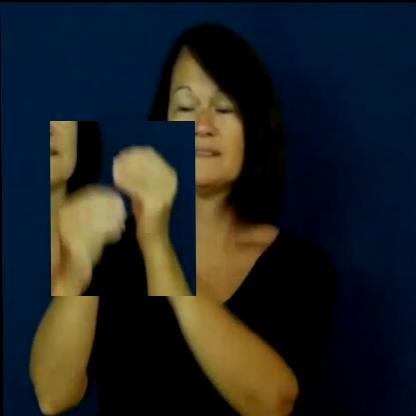Fix: (50, 121, 196, 296)
